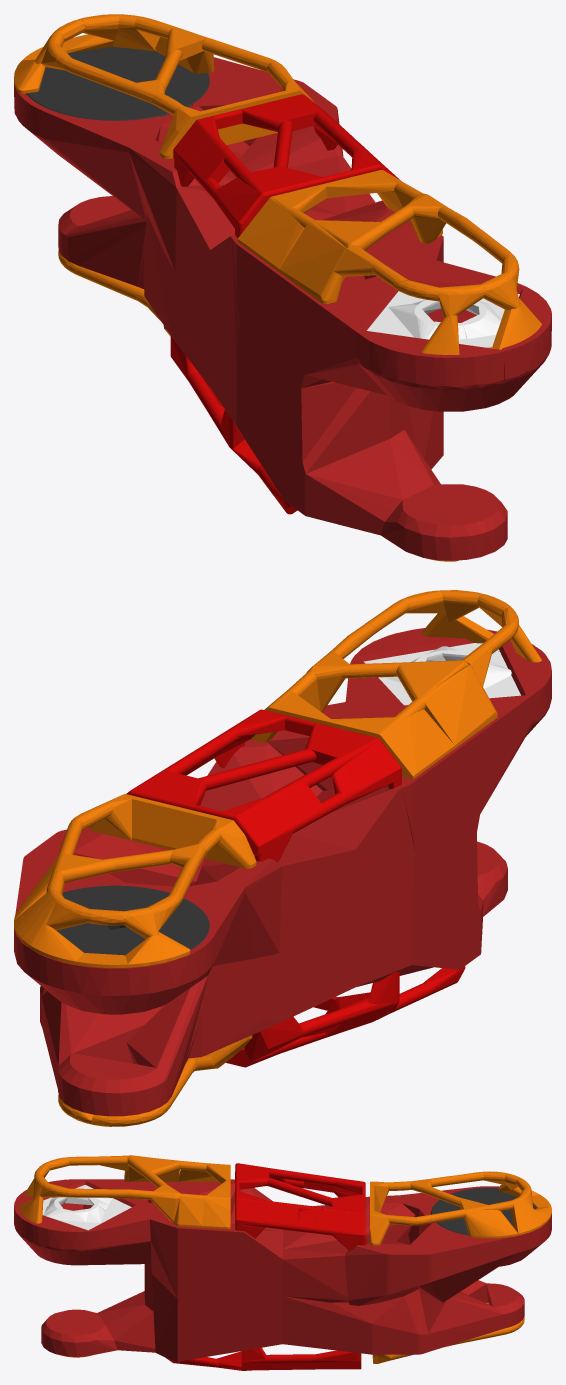
File: LLEG_LINK2_mesh.dae
3 views of the same model, one above another, from view 1: azimuth 30°, elevation 25°; view 2: azimuth 150°, elevation 25°; view 3: azimuth 270°, elevation 25° (orthographic). The views are drawn at different scales.
Visible parts, largest first — view 1: LLEG_LINK2 (×8); view 2: LLEG_LINK2 (×8); view 3: LLEG_LINK2 (×8).
Part boxes in pixels (x1,y1,x2,y2): LLEG_LINK2 (×8): (14,14,551,560); LLEG_LINK2 (×8): (14,590,551,1126); LLEG_LINK2 (×8): (14,1155,551,1370).
Size of the model in its own units: 0.1489 by 0.182 by 0.495.
